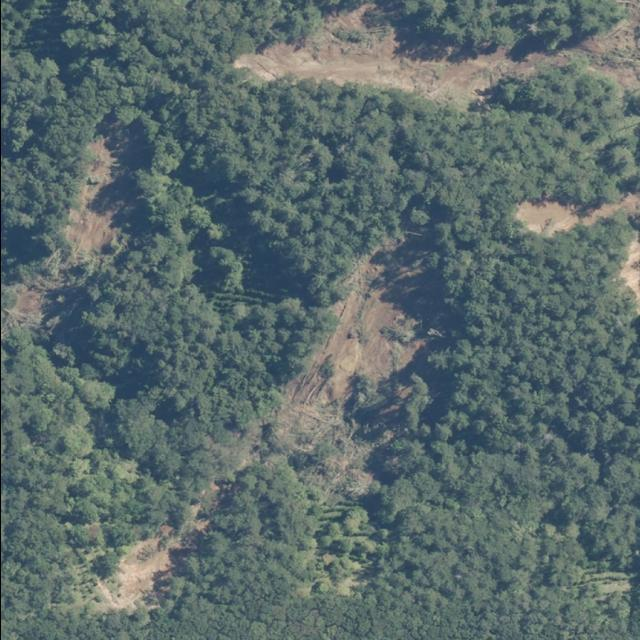landslide: (275, 240, 437, 496), (234, 4, 522, 102), (55, 127, 127, 271), (109, 540, 177, 610)
